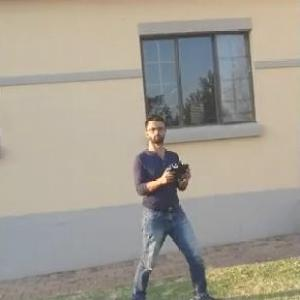follow: (130, 110, 222, 299)
